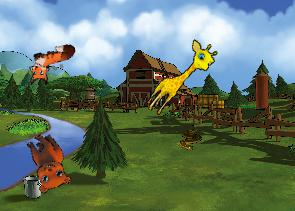bear: (13, 128, 78, 198)
fox: (22, 41, 81, 88)
giraffe: (142, 34, 221, 124)
